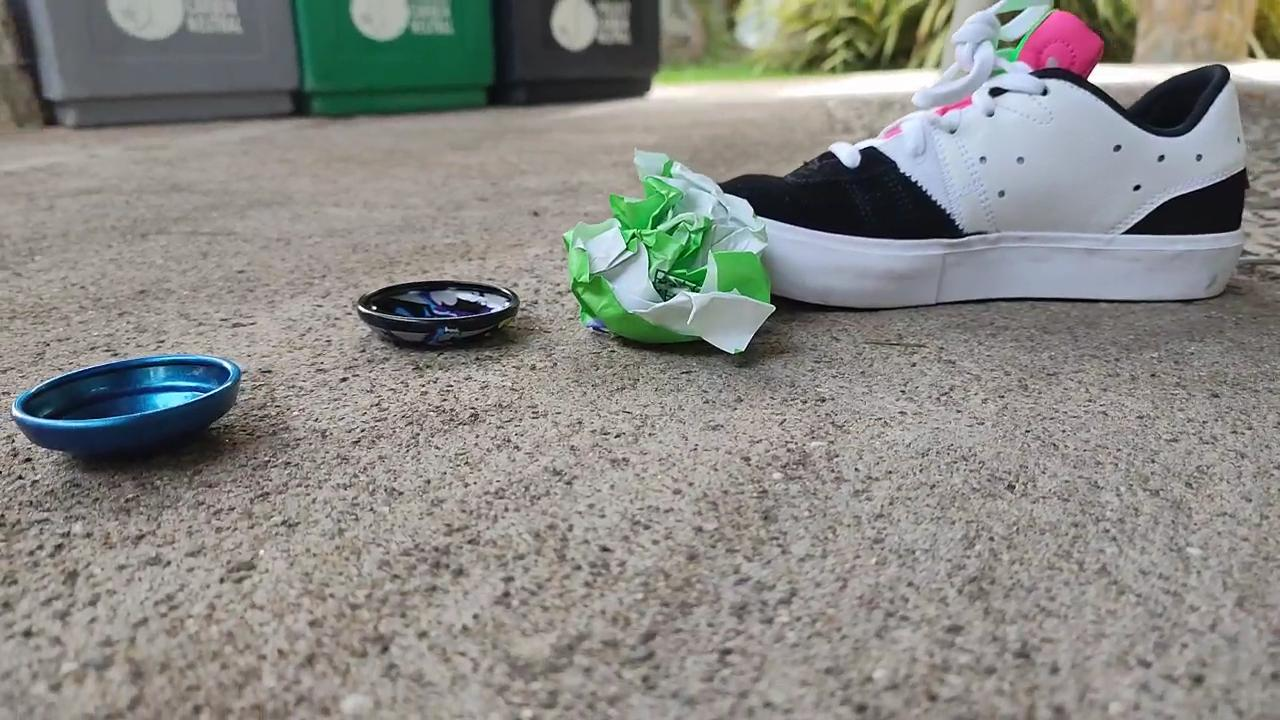Paper: (547, 136, 786, 372)
